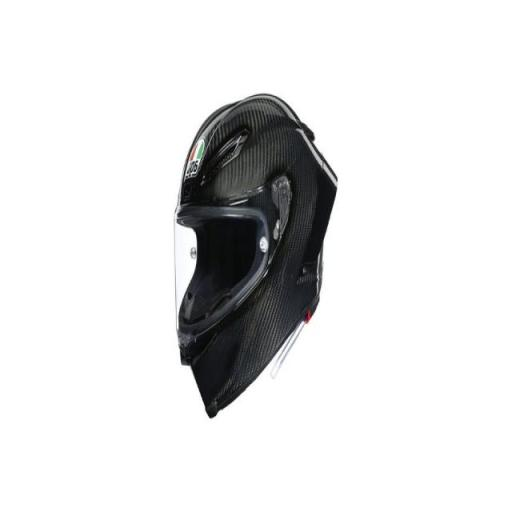Helmet: (176, 95, 336, 416)
